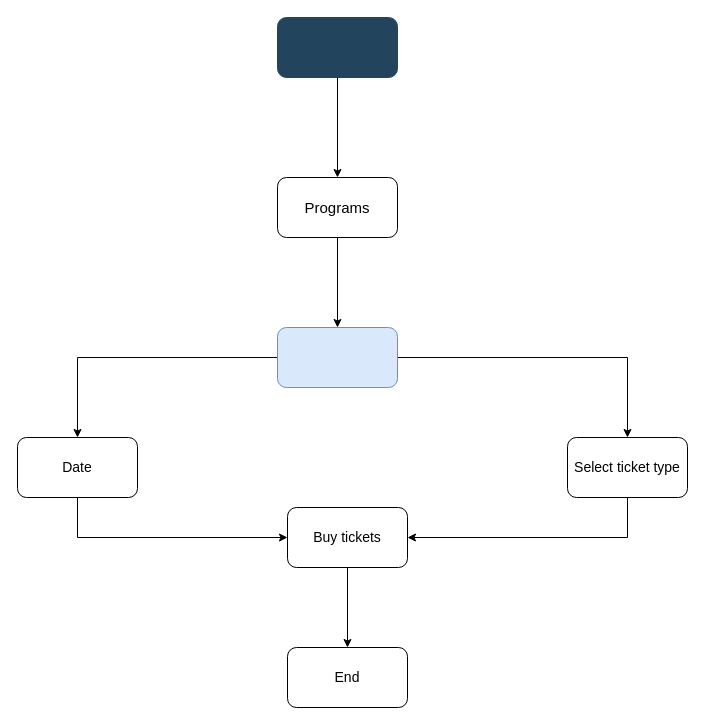
Image size: 705x725. Some labels were removed from this diagram. The shapes that lost their labels are listed below. From the top down, each one's box as (x1, y1, x2, y2) in pixels, then its label:
(276, 16, 398, 78): HOME
(276, 326, 398, 388): Tickets
